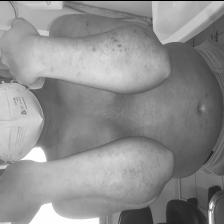DA: (104, 30, 152, 78), (111, 148, 164, 190), (72, 40, 102, 80), (78, 164, 110, 194)
